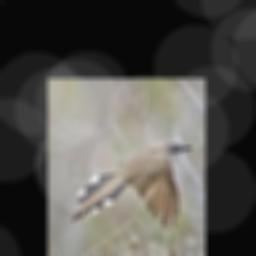Cuckoo: (71, 140, 192, 228)
